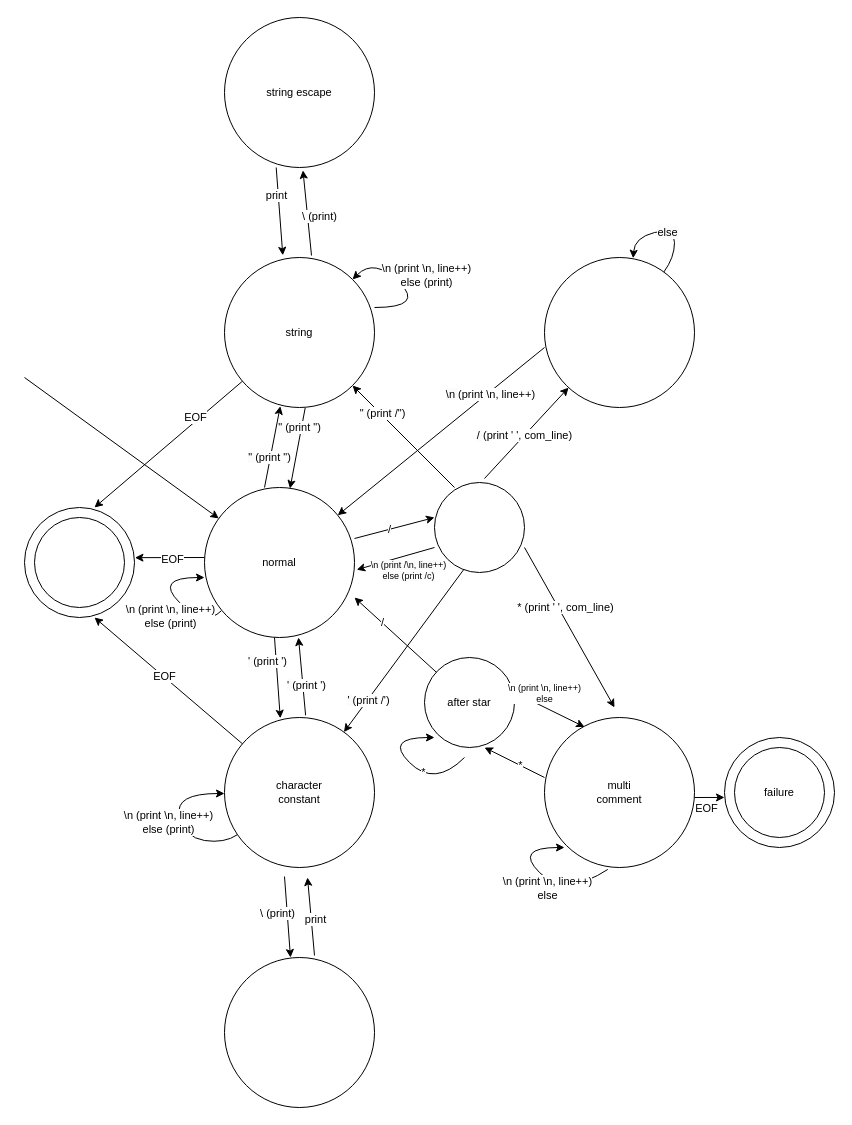
Image size: 852x1125. Some labels were removed from this diagram. Each missing label, with the centre of its shape:
after slash: point (479, 527)
character escape: point (299, 1032)
single comment: point (619, 332)
success: point (79, 562)
